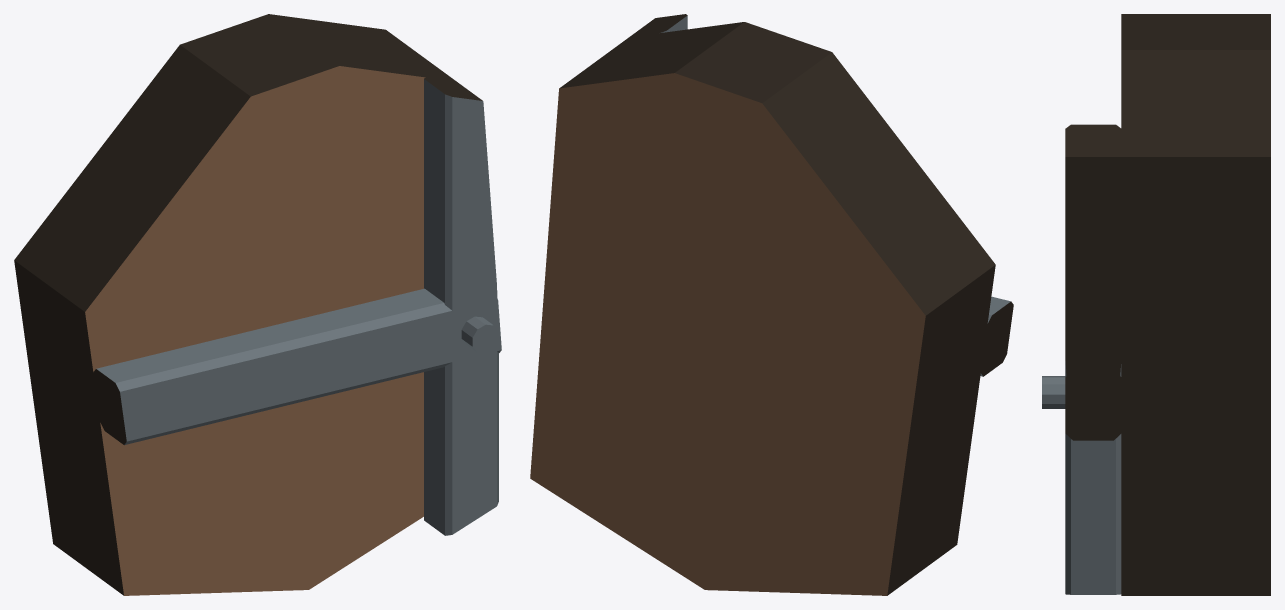
Rendered from SM_DoorShard_02_08.fbx.
3 views of the same model, side by side, from view 1: azimuth 30°, elevation 25°; view 2: azimuth 150°, elevation 25°; view 3: azimuth 270°, elevation 25° (orthographic). The views are drawn at different scales.
Visible parts, largest first — view 1: SM_DoorShard_02_08; view 2: SM_DoorShard_02_08; view 3: SM_DoorShard_02_08.
Part boxes in pixels (box(x1,y1,x2,y2)): SM_DoorShard_02_08: box(14, 14, 501, 595); SM_DoorShard_02_08: box(530, 14, 1013, 595); SM_DoorShard_02_08: box(1042, 14, 1270, 595).
Bounding box in the file's own units: 52.22 × 24.5 × 64.28.
